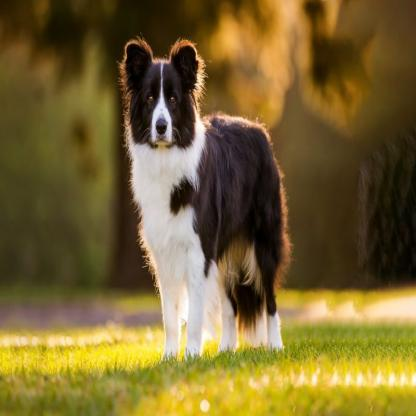Border Collie: (120, 34, 288, 361)
